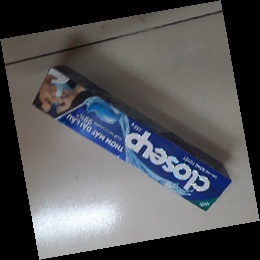CloseUp Tuyet: (32, 65, 233, 212)
